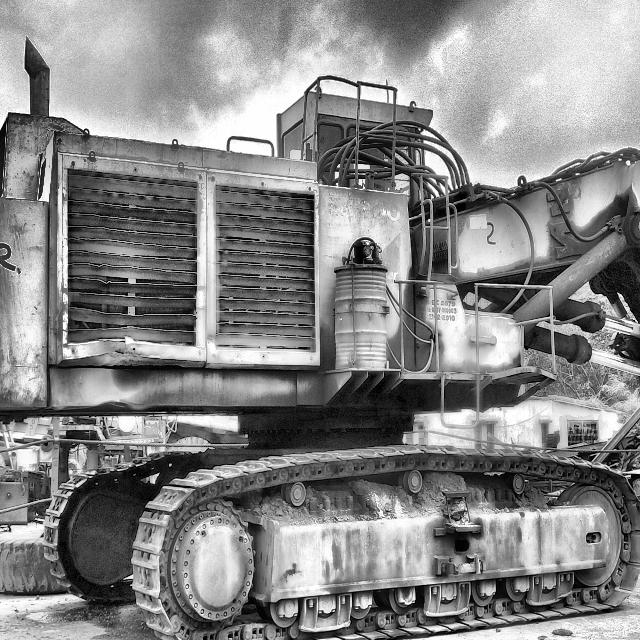excavator: (0, 65, 640, 640)
